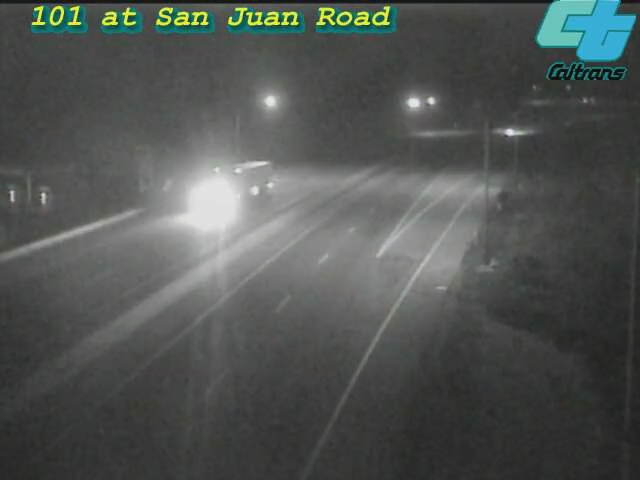vehicle: (177, 153, 257, 233), (484, 108, 534, 158)
